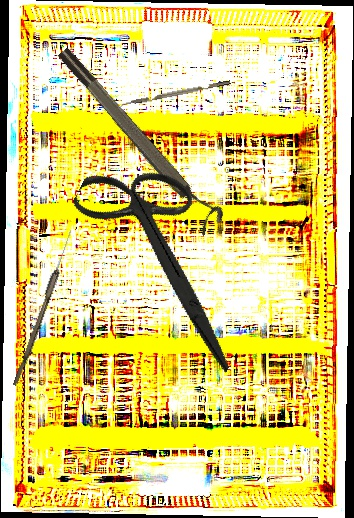Chopper: (118, 80, 232, 112)
Fixation Ring: (54, 37, 228, 237)
Iris Scissors: (33, 141, 295, 376)
Surgical Spoon: (12, 228, 75, 388)
